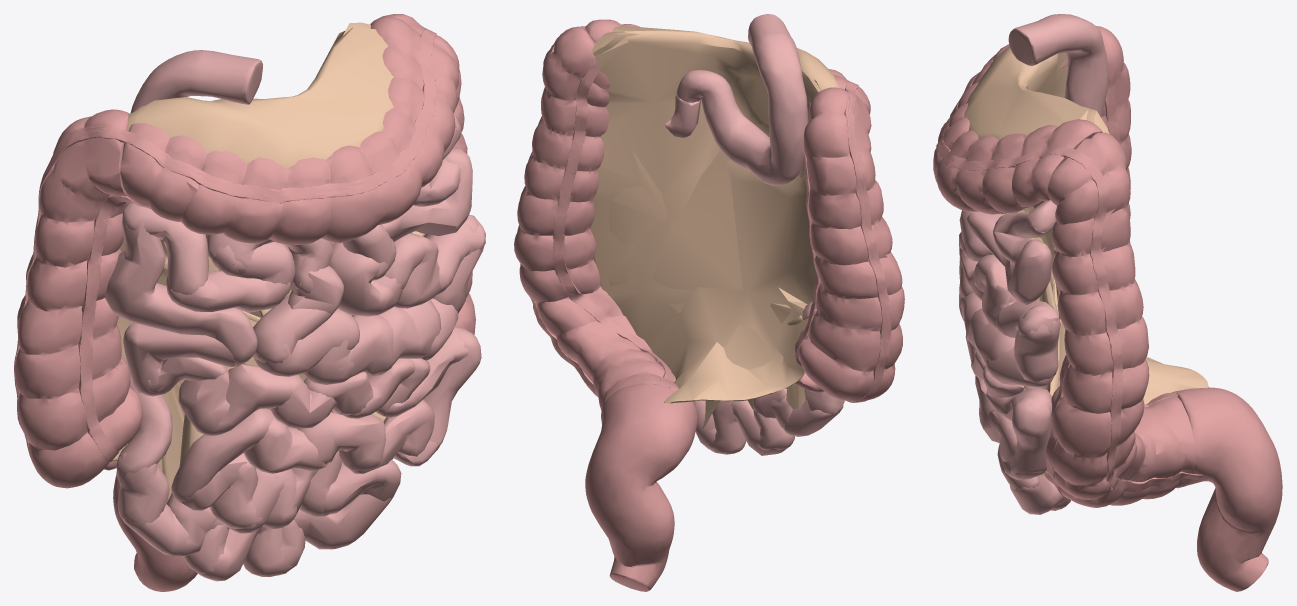
File: digestive-lower.v1.glb
3 renders of one model, left to right at view 1: azimuth 30°, elevation 25°; view 2: azimuth 150°, elevation 25°; view 3: azimuth 270°, elevation 25°, orthographic. The views are drawn at different scales.
Visible parts, largest first — view 1: distal_part_of_jejunum, ascending_colon, transverse_colon, proximal_part_of_ileum, middle_part_of_ileum, transverse_mesocolon, distal_part_of_ileum, proximal_part_of_jejunum, middle_part_of_jejunum, taenia_omentalis, duodenum, taenia_libera (+4 smaller); view 2: transverse_mesocolon, descending_colon, ascending_colon, rectum, duodenum, distal_part_of_ileum, taenia_mesocolica, taenia_omentalis, proximal_part_of_jejunum, transverse_colon, mesentery_of_small_intestine; view 3: descending_colon, rectum, transverse_colon, transverse_mesocolon, middle_part_of_jejunum, proximal_part_of_jejunum, taenia_omentalis, duodenum, proximal_part_of_ileum, ascending_colon, middle_part_of_ileum, distal_part_of_ileum (+4 smaller).
Boxes of the visible parts, bbox=[...] form: distal_part_of_jejunum: bbox=[105, 203, 393, 384]; ascending_colon: bbox=[14, 109, 142, 488]; transverse_colon: bbox=[120, 16, 458, 244]; proximal_part_of_ileum: bbox=[123, 323, 481, 449]; middle_part_of_ileum: bbox=[171, 400, 439, 533]; transverse_mesocolon: bbox=[117, 22, 394, 366]; distal_part_of_ileum: bbox=[116, 450, 401, 581]; proximal_part_of_jejunum: bbox=[329, 115, 472, 316]; middle_part_of_jejunum: bbox=[378, 214, 485, 372]; taenia_omentalis: bbox=[14, 28, 436, 458]; duodenum: bbox=[130, 50, 262, 113]; taenia_libera: bbox=[78, 194, 150, 462]; transverse_mesocolon: bbox=[590, 25, 840, 403]; descending_colon: bbox=[514, 26, 697, 429]; ascending_colon: bbox=[798, 87, 904, 401]; rectum: bbox=[585, 383, 696, 591]; duodenum: bbox=[676, 14, 808, 185]; distal_part_of_ileum: bbox=[695, 388, 844, 455]; taenia_mesocolica: bbox=[552, 61, 820, 387]; taenia_omentalis: bbox=[517, 26, 891, 402]; proximal_part_of_jejunum: bbox=[665, 95, 701, 137]; transverse_colon: bbox=[585, 19, 870, 114]; mesentery_of_small_intestine: bbox=[703, 383, 806, 428]; descending_colon: bbox=[1043, 132, 1195, 507]; rectum: bbox=[1172, 387, 1282, 591]; transverse_colon: bbox=[933, 44, 1102, 214]; transverse_mesocolon: bbox=[964, 46, 1208, 404]; middle_part_of_jejunum: bbox=[968, 258, 1060, 387]; proximal_part_of_jejunum: bbox=[959, 200, 1056, 304]; taenia_omentalis: bbox=[936, 55, 1203, 491]; duodenum: bbox=[1008, 14, 1108, 117]; proximal_part_of_ileum: bbox=[965, 332, 1051, 479]; ascending_colon: bbox=[1096, 26, 1131, 243]; middle_part_of_ileum: bbox=[975, 375, 1044, 480]; distal_part_of_ileum: bbox=[997, 444, 1070, 514].
Bounding box in the file's own units: 0.2443 × 0.3198 × 0.1857.
